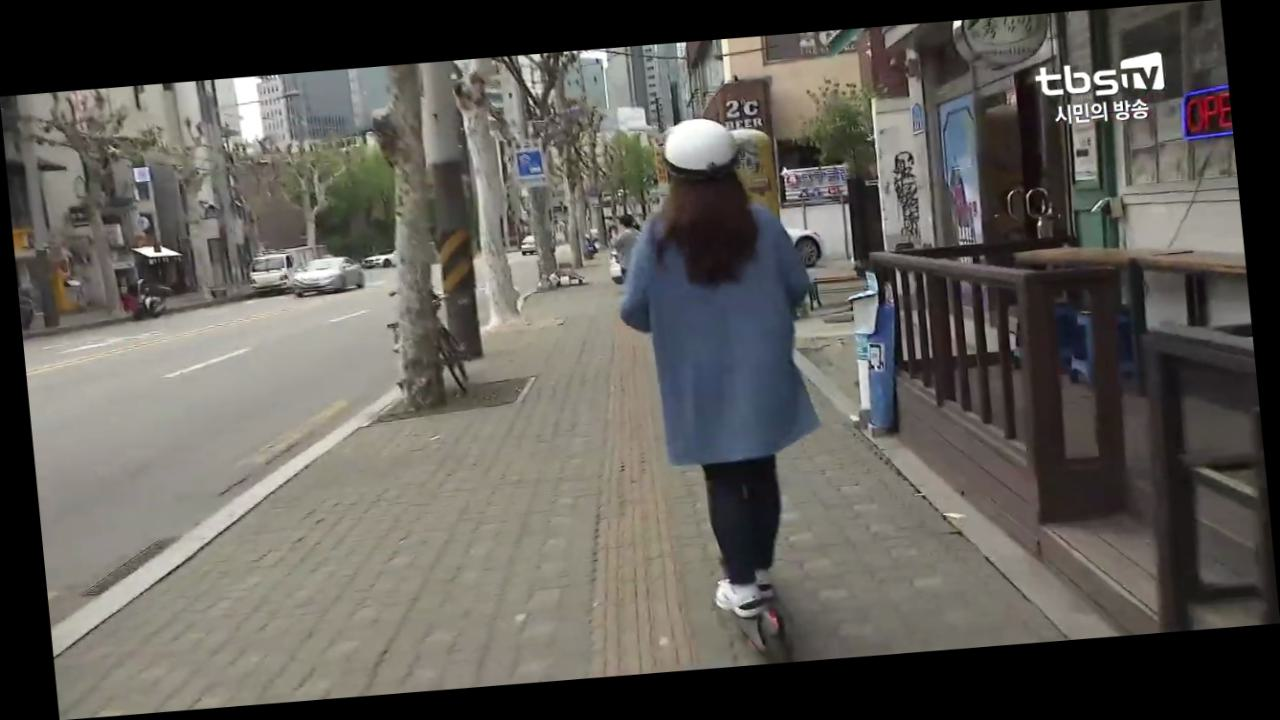helmet: (601, 108, 849, 673)
